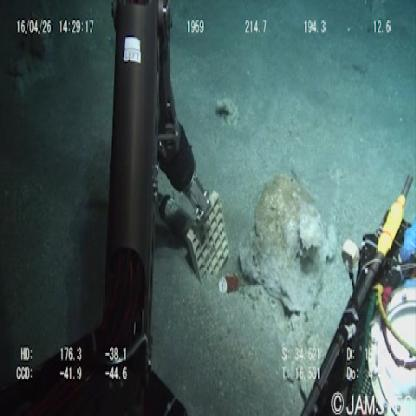Rov: (90, 2, 213, 388), (298, 171, 415, 416), (152, 182, 231, 288)
